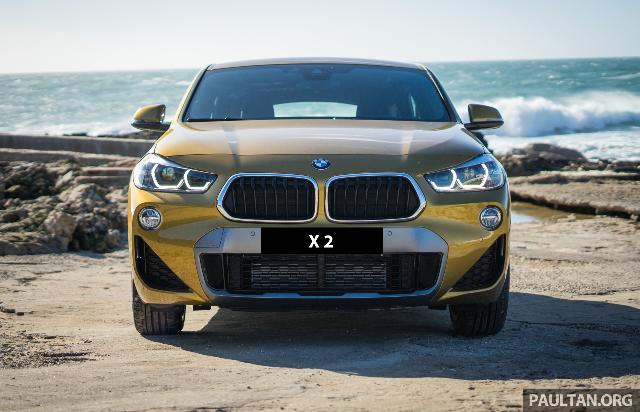License_Plate: (262, 228, 385, 258)
car: (120, 56, 512, 338)
